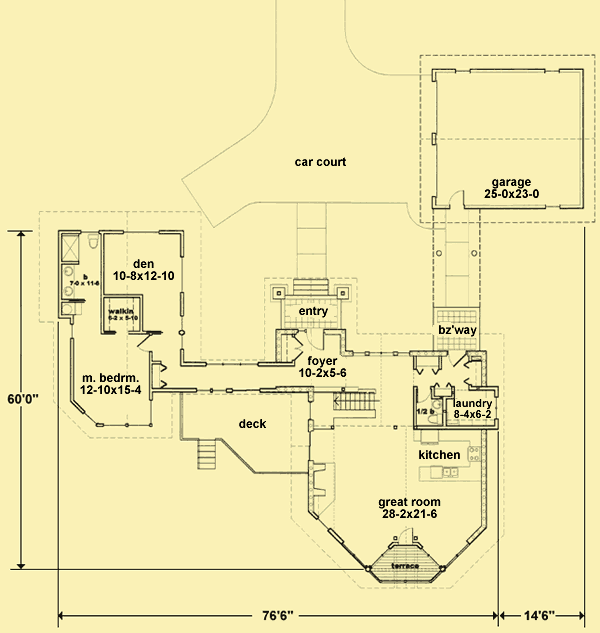door: (302, 328, 326, 352), (441, 188, 469, 208), (396, 522, 418, 546), (447, 348, 468, 370), (137, 335, 155, 353), (292, 334, 304, 361)
large_sink: (83, 232, 102, 249), (423, 412, 442, 423)
small_sink: (63, 265, 78, 298), (429, 398, 446, 410)
stairs: (326, 394, 379, 417), (195, 434, 219, 475)
twin_sink: (442, 464, 460, 476)
